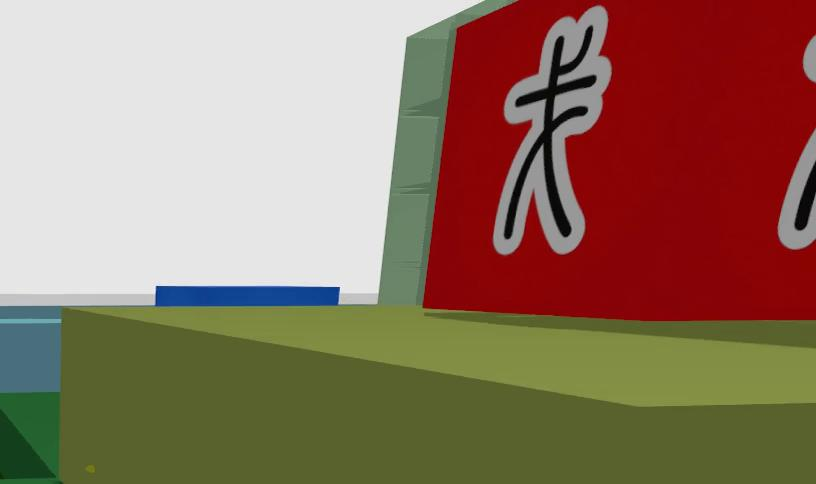KFS_FAKE: (421, 0, 815, 319), (492, 7, 610, 254)
